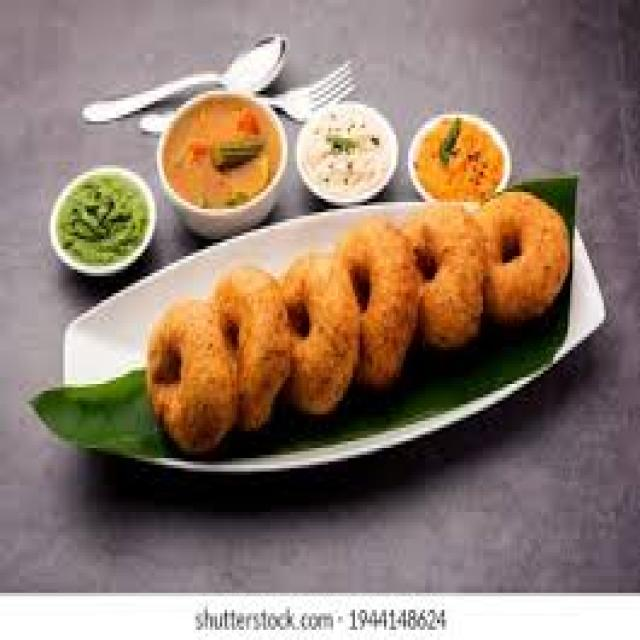MEDU VADA: (275, 247, 362, 414), (144, 297, 235, 456), (214, 260, 294, 428), (341, 215, 418, 387), (399, 200, 487, 348), (482, 186, 566, 322)
